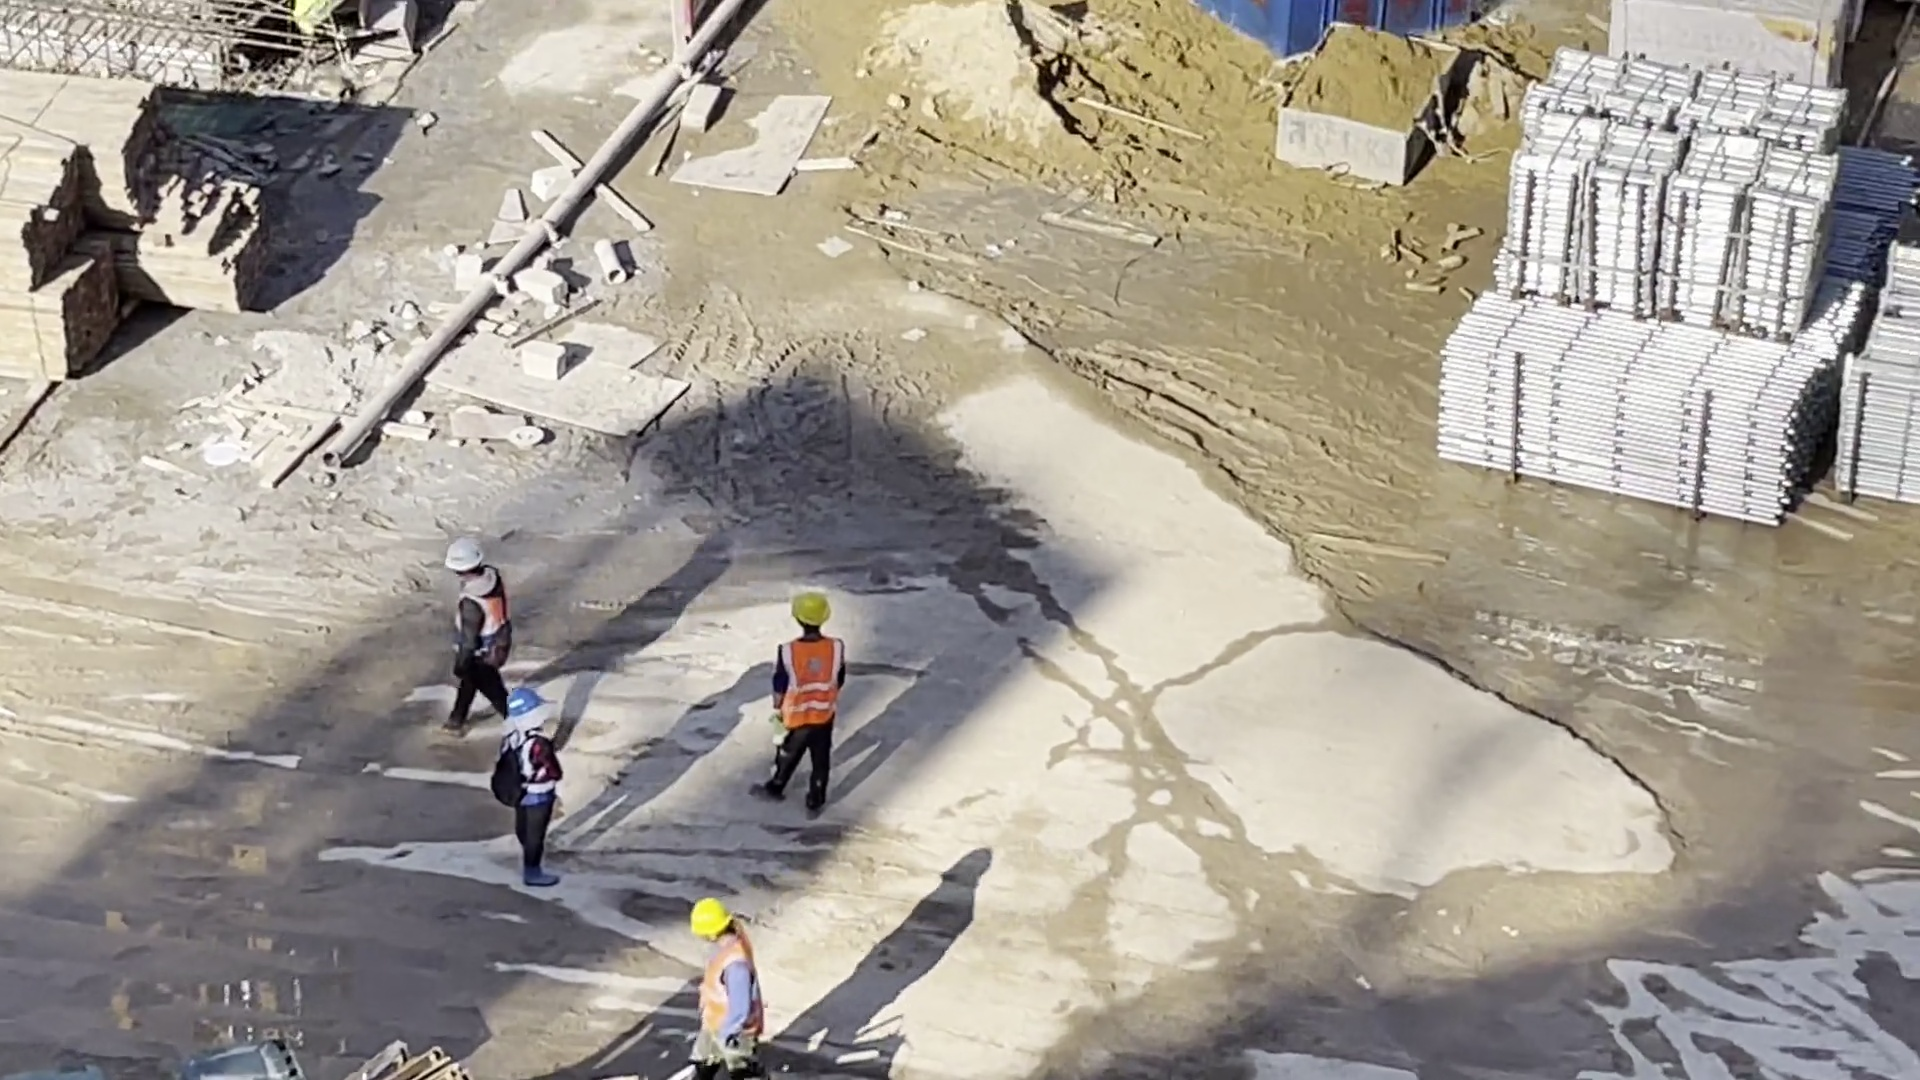helmet: (685, 900, 732, 939), (447, 539, 486, 577), (792, 593, 829, 627), (511, 689, 544, 716)
hopper: (1278, 22, 1458, 188), (1198, 4, 1461, 54)
person: (770, 592, 833, 810), (684, 900, 759, 1080), (446, 534, 512, 737), (502, 687, 559, 887)
scaffold: (1508, 61, 1843, 335), (1435, 310, 1833, 523), (1835, 247, 1920, 489)
vest: (700, 943, 751, 1038), (782, 639, 835, 724), (515, 742, 552, 816)
wood: (1, 74, 148, 369)
